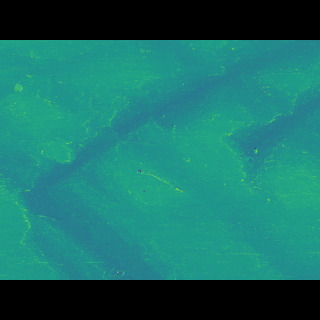Loch: (29, 100, 218, 187), (0, 168, 188, 249), (226, 99, 320, 219)
